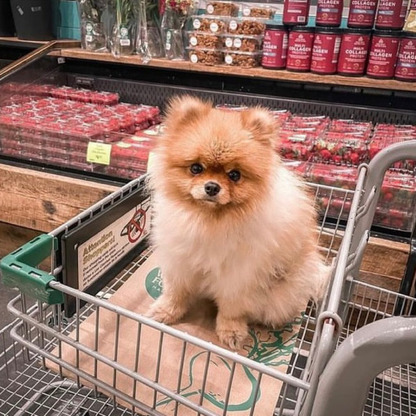Pomeranian: (116, 85, 338, 354)
